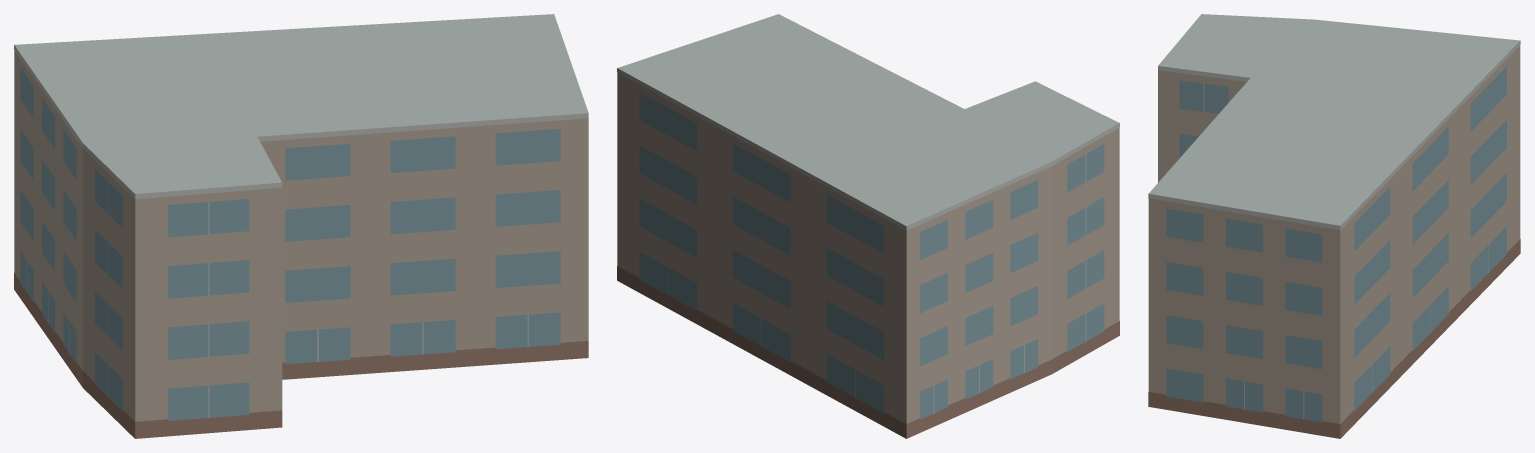
File: survey-upis-32591119.glb
3 views of the same model, side by side, from view 1: azimuth 30°, elevation 25°; view 2: azimuth 150°, elevation 25°; view 3: azimuth 270°, elevation 25° (orthographic). The views are drawn at different scales.
Parts seen in each view (by area): view 1: survey-upis-32591119.tmp; view 2: survey-upis-32591119.tmp; view 3: survey-upis-32591119.tmp.
Part boxes in pixels (x1,y1,x2,y2): survey-upis-32591119.tmp: [14, 14, 588, 438]; survey-upis-32591119.tmp: [617, 14, 1119, 438]; survey-upis-32591119.tmp: [1148, 14, 1520, 438].
Bounding box in the file's own units: 24.85 × 11.65 × 18.44.
